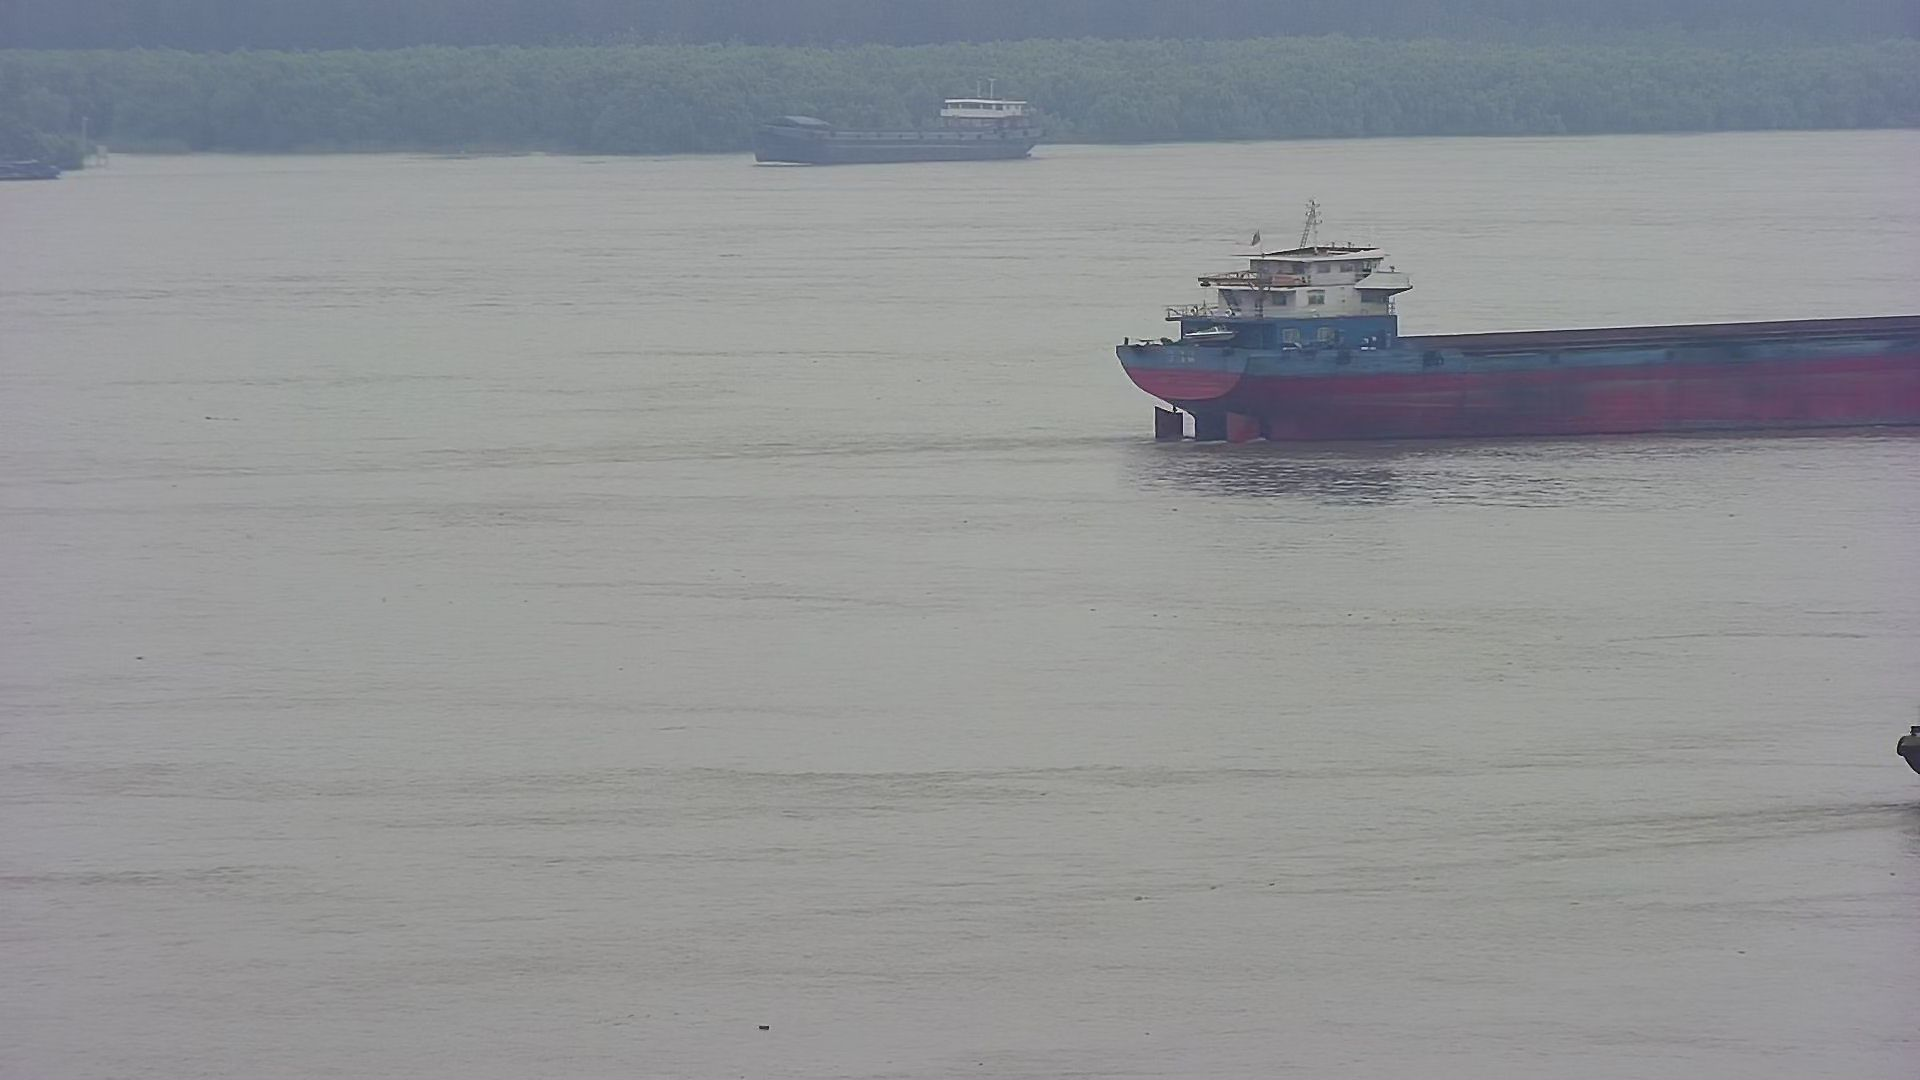boat: (1, 153, 69, 181)
ship: (1102, 239, 1920, 439), (750, 80, 1039, 164), (1894, 723, 1920, 785)
